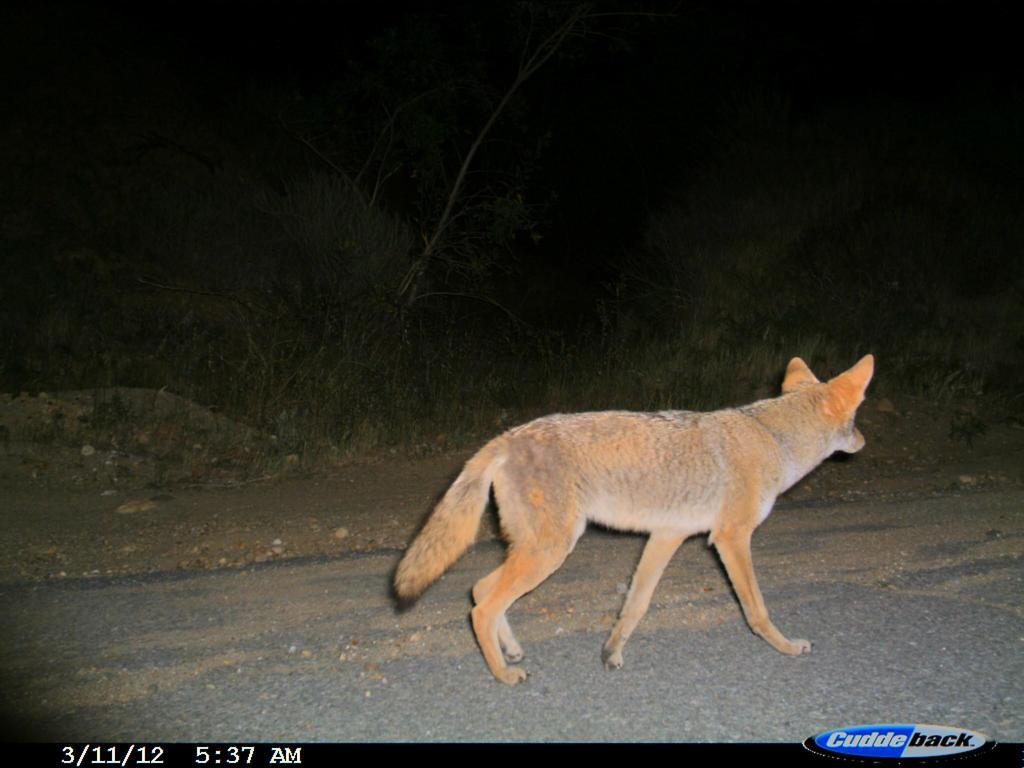coyote: (372, 333, 890, 694)
